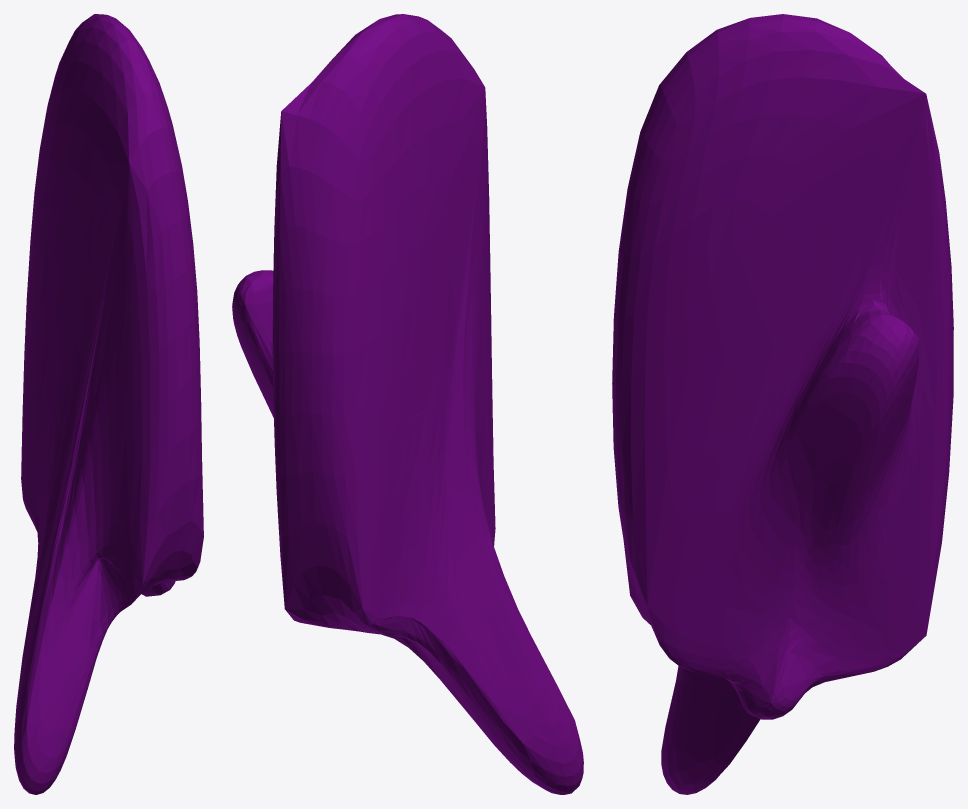
3 views of the same model, side by side, from view 1: azimuth 30°, elevation 25°; view 2: azimuth 150°, elevation 25°; view 3: azimuth 270°, elevation 25° (orthographic). The views are drawn at different scales.
Parts seen in each view (by area): view 1: 121_Cube.501; view 2: 121_Cube.501; view 3: 121_Cube.501.
Boxes of the visible parts, x1=… form: 121_Cube.501: x1=14, y1=14, x2=203, y2=794; 121_Cube.501: x1=232, y1=14, x2=583, y2=794; 121_Cube.501: x1=612, y1=14, x2=953, y2=794.
Size of the model in its own units: 5.13 by 14.9 by 5.44.
